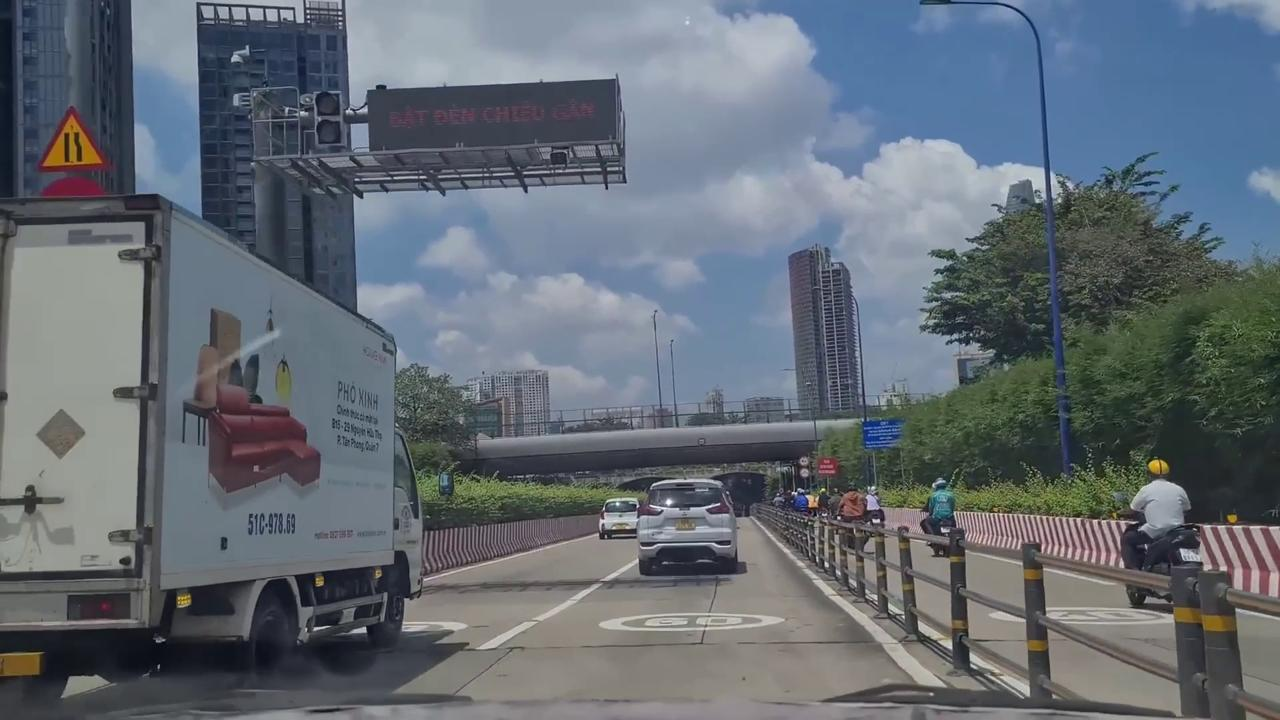Đuờng hẹp: (35, 105, 114, 173)
